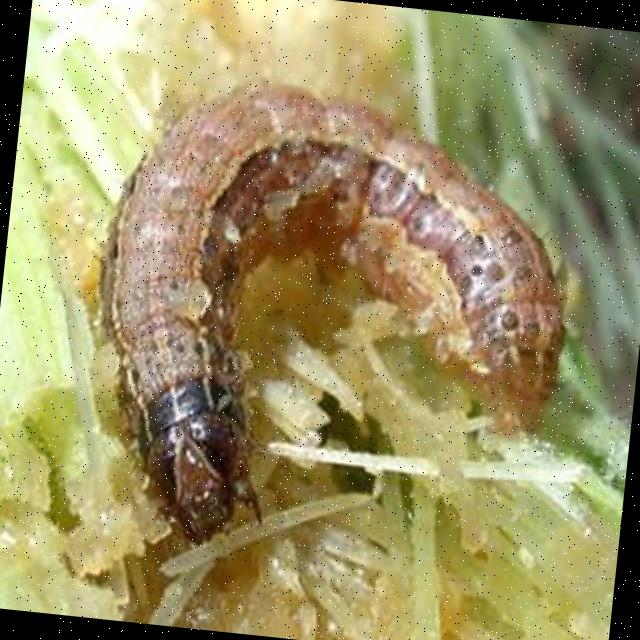worm: (70, 68, 591, 590)
